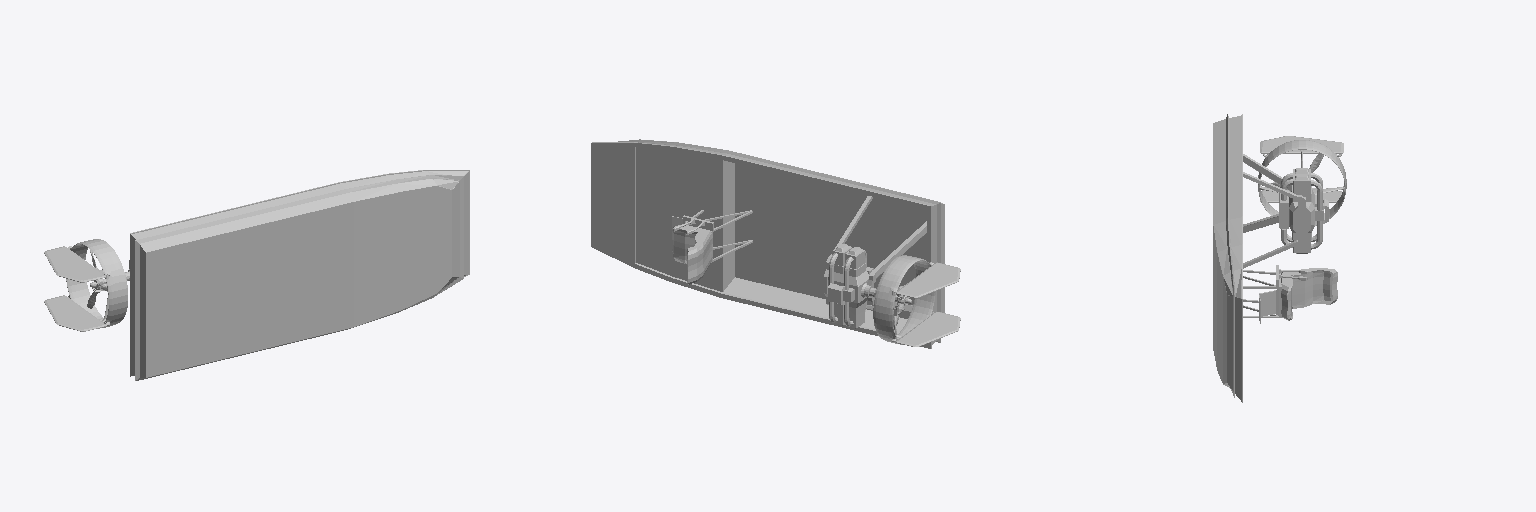
File: boat.obj
The picture shows the model from 3 angles: view 1: azimuth 30°, elevation 25°; view 2: azimuth 150°, elevation 25°; view 3: azimuth 270°, elevation 25°; orthographic projection.
Visible parts, largest first — view 1: airboat; view 2: airboat; view 3: airboat.
Part boxes in pixels (x1,y1,x2,y2): airboat: (44,170,469,380); airboat: (591,139,960,348); airboat: (1213,114,1346,402).
Size of the model in its own units: 16.23 by 5.68 by 4.8.